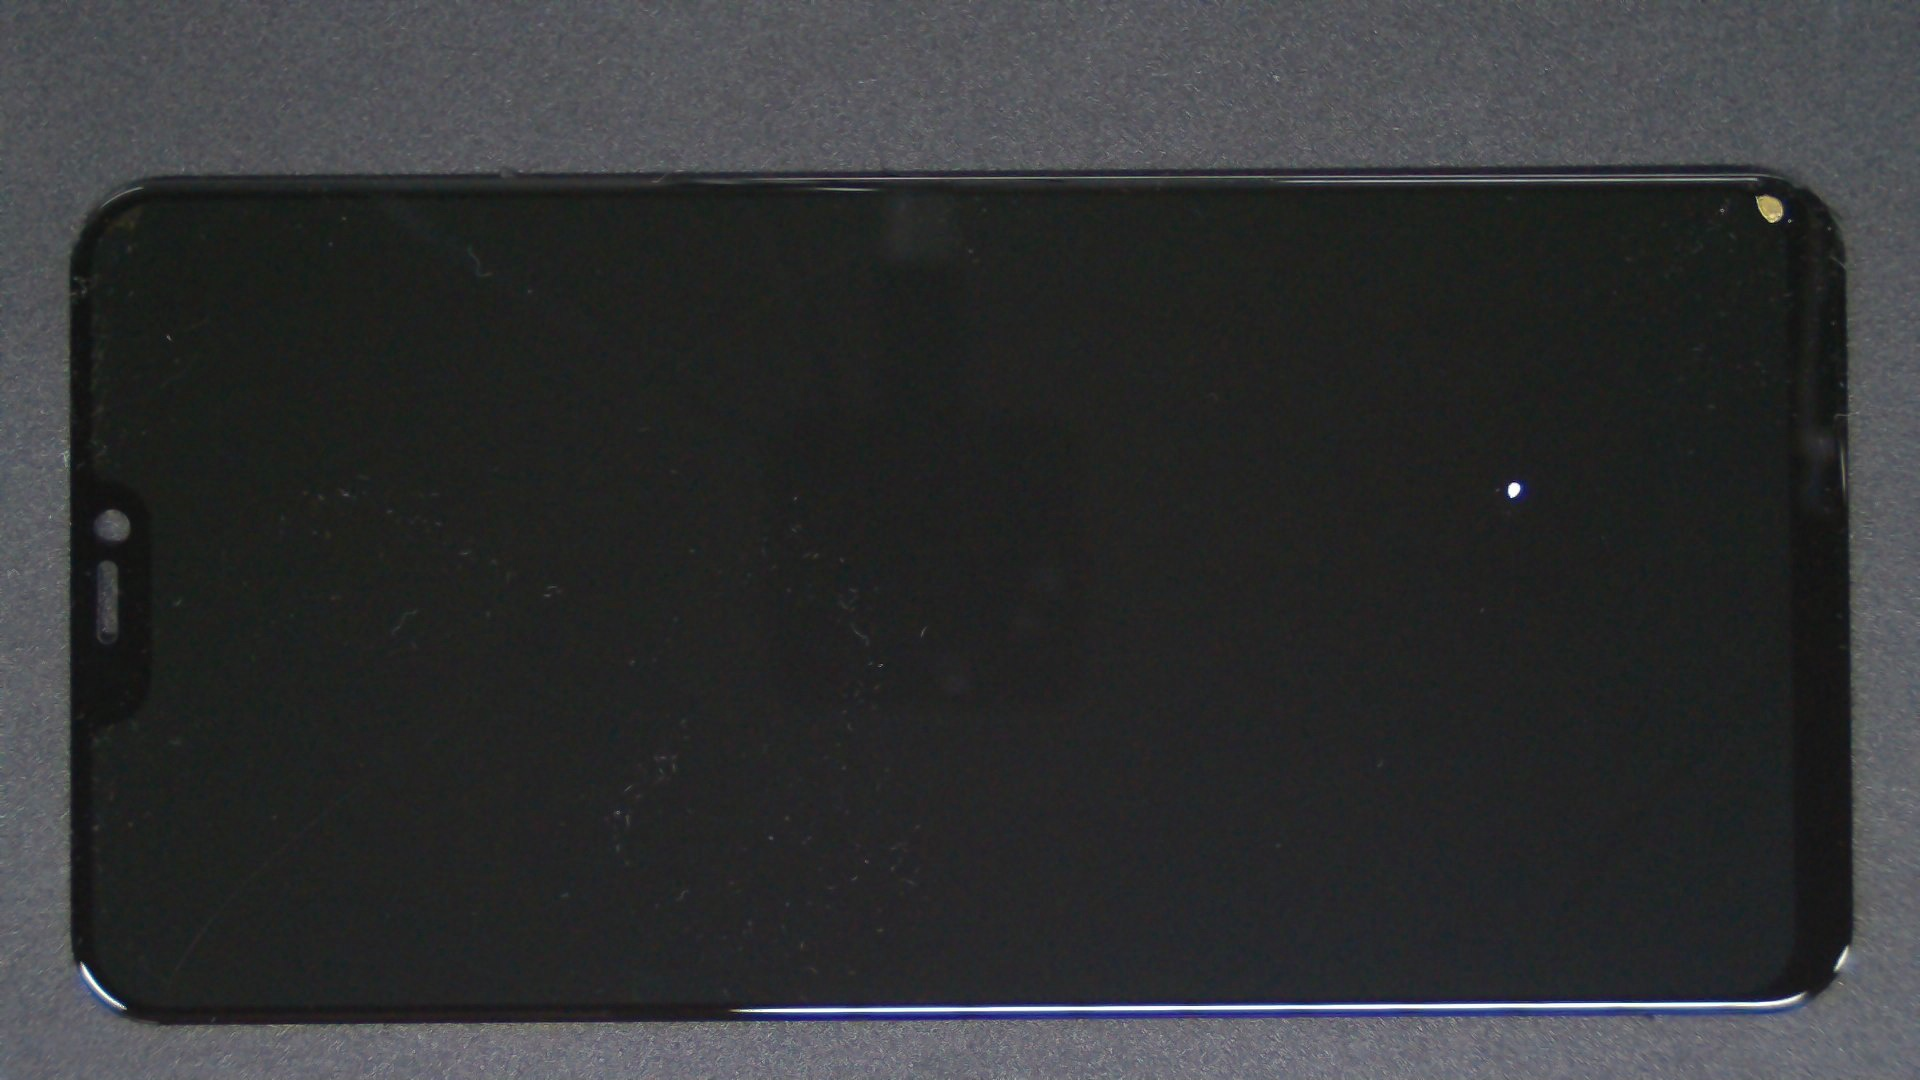oil: (758, 240, 1920, 720), (884, 95, 1920, 287)
